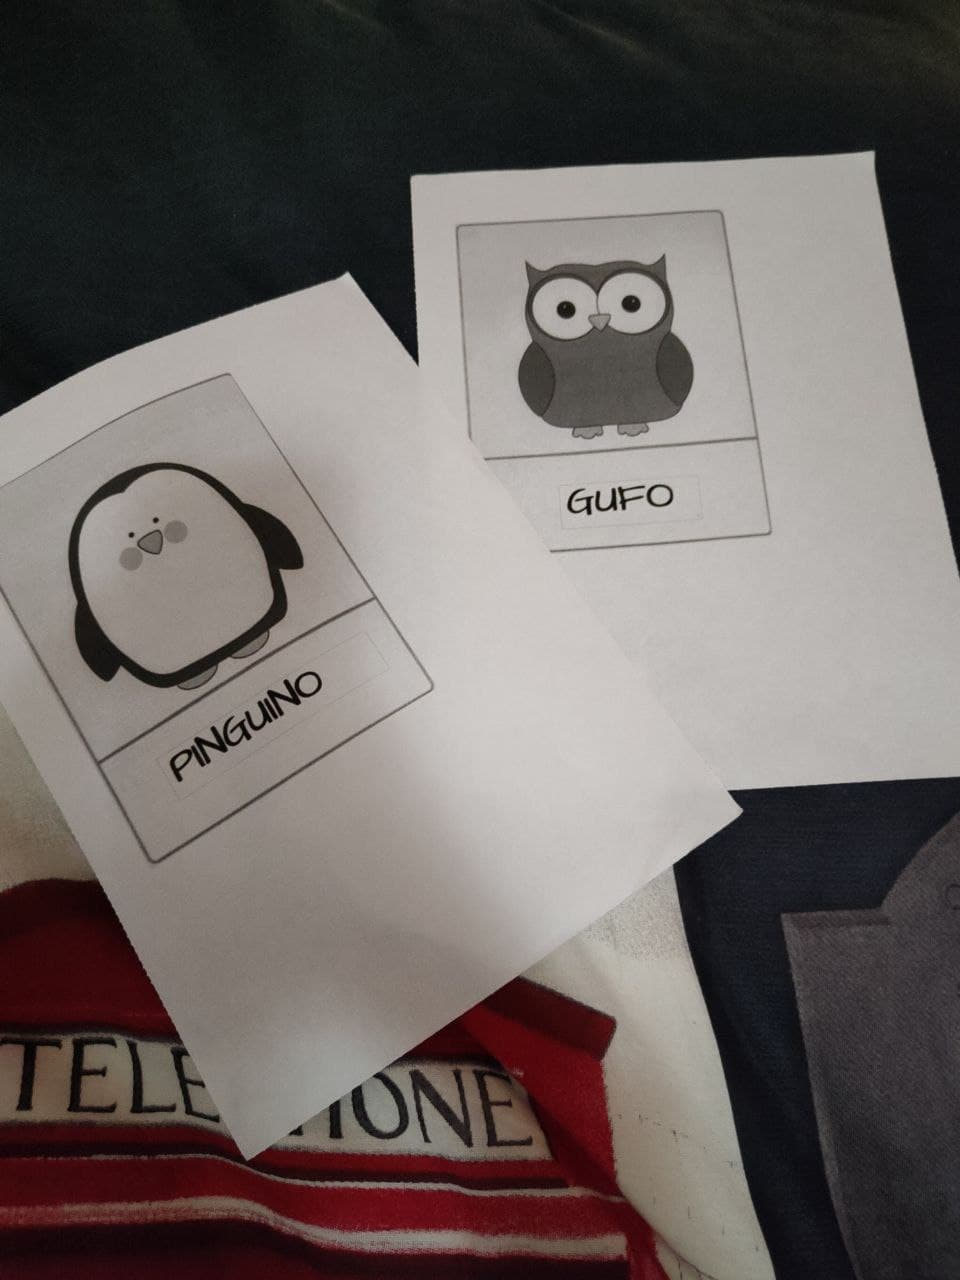gufo: (461, 223, 745, 544)
pinguino: (23, 445, 396, 828)
